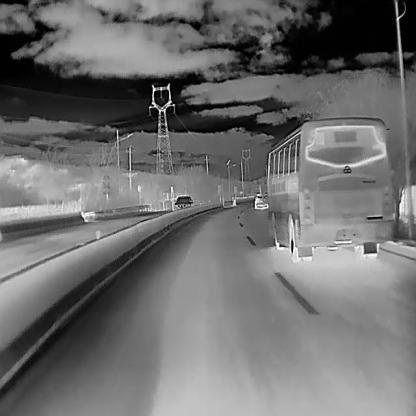car: (263, 114, 397, 265), (172, 189, 195, 216), (253, 190, 270, 209)
